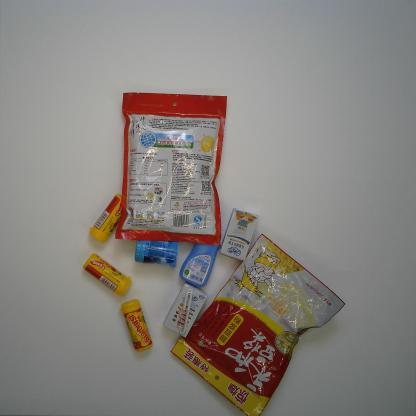Candy: (82, 252, 133, 297), (89, 193, 128, 243), (119, 298, 154, 352)
Gum: (134, 239, 180, 269)
Instant Drink: (169, 233, 345, 416), (113, 91, 227, 246)
Milk: (162, 282, 207, 338), (218, 207, 258, 262)
Personal Hygiene: (178, 225, 222, 287)
